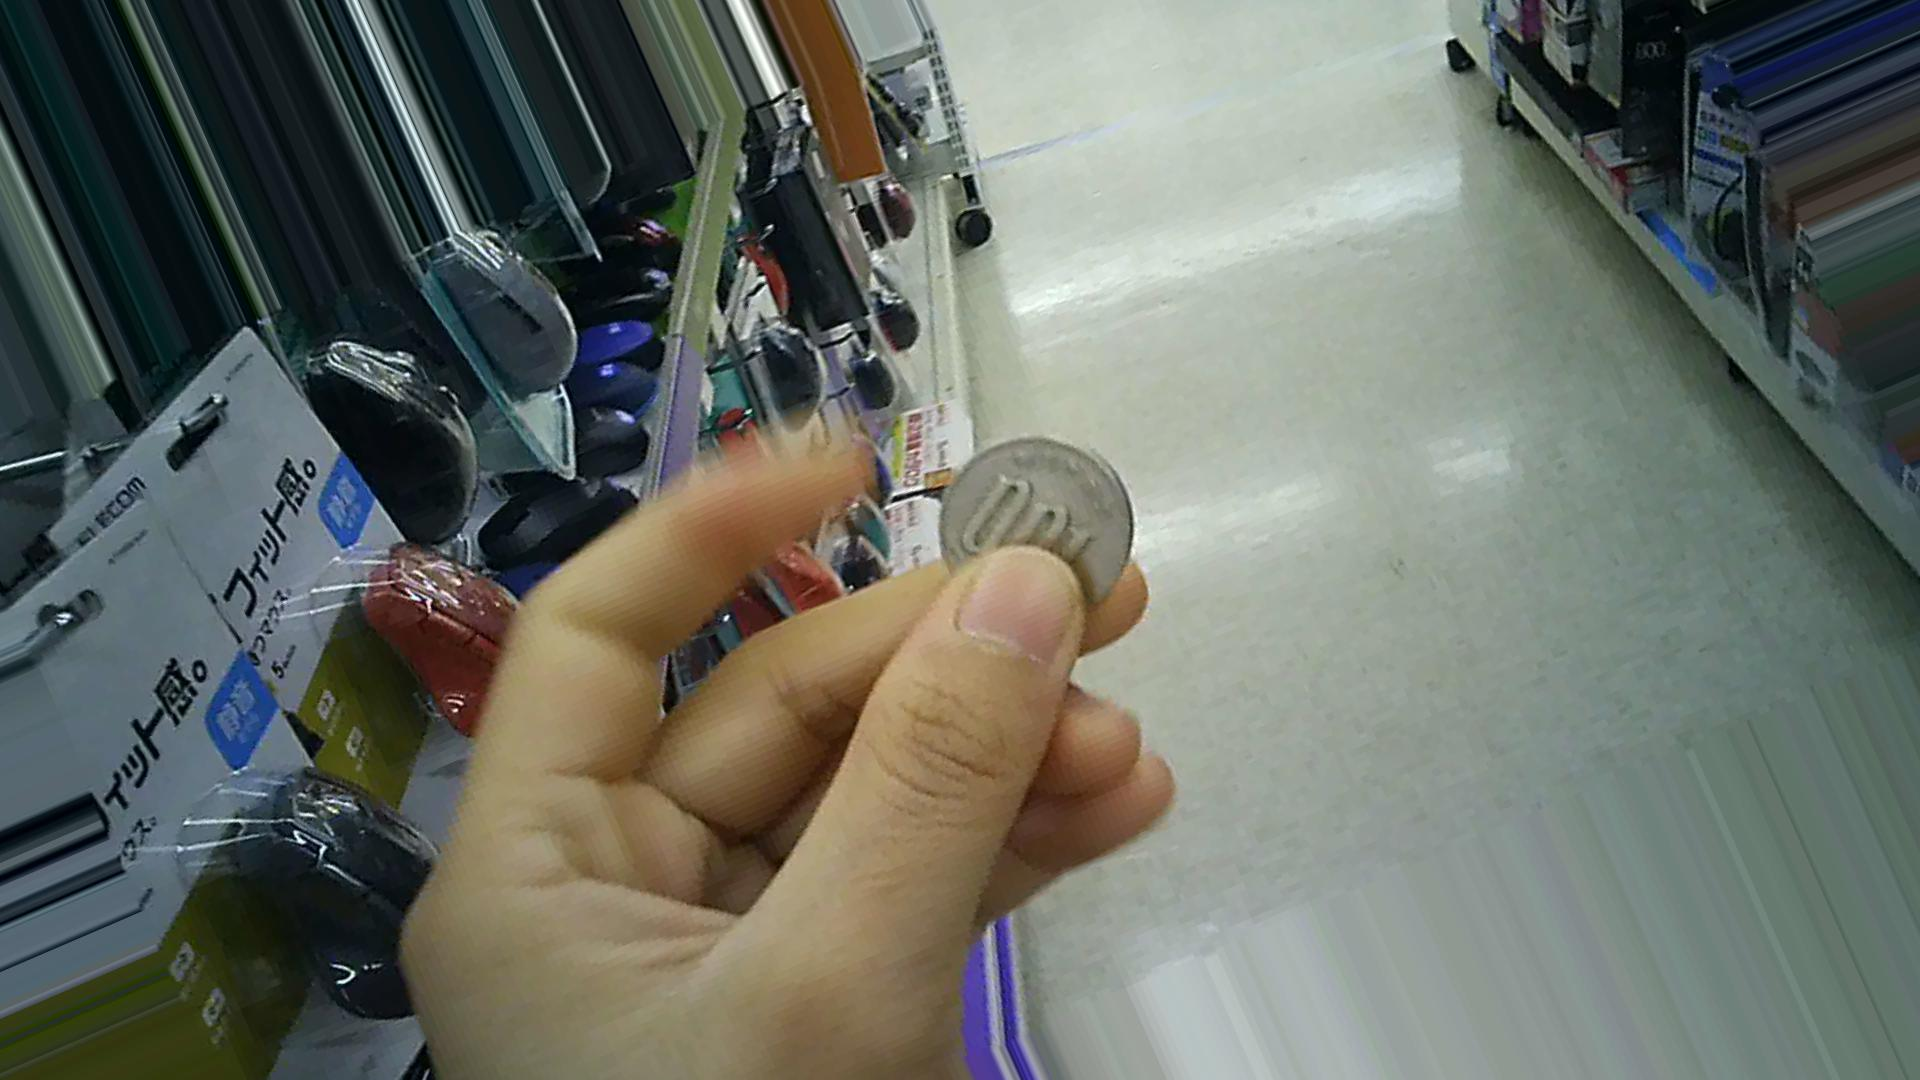100 Yen: (938, 433, 1146, 633)
